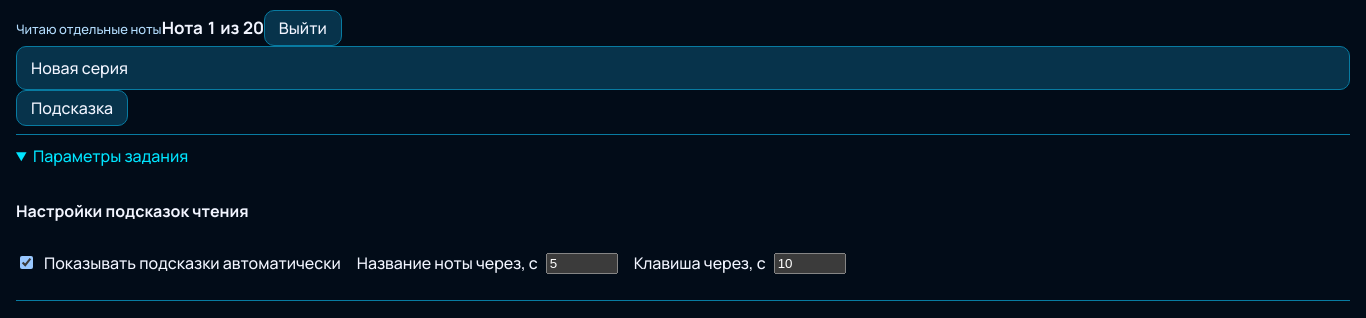
Test case: reading course UI › offers automatic hint preferences in learning and prevents all answer hints in the check
Click the checkbox labelled "Показывать подсказки автоматически".
click(26, 262)  # box [20, 256, 33, 269]
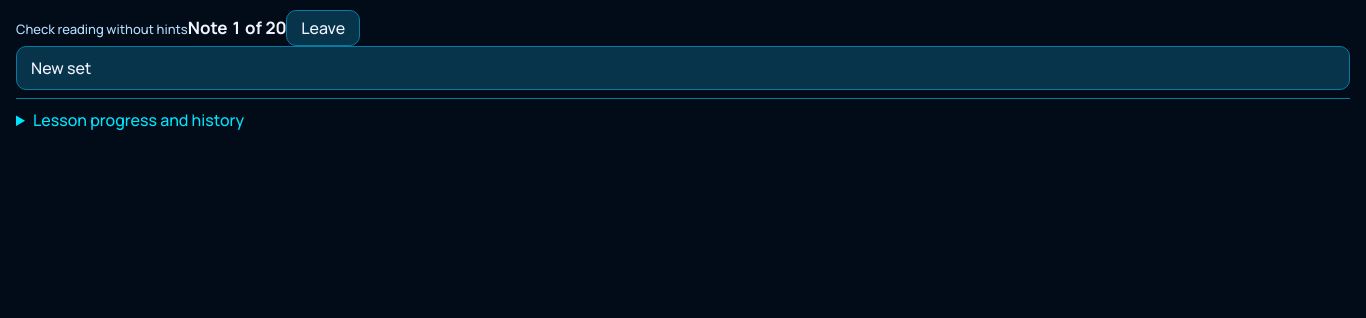
Expected: the element with class "reading-hint-settings" is gone
Expected: the text "Check reading without hints" is shown, [16, 20, 188, 38]
Expected: no checkboxes are shown
